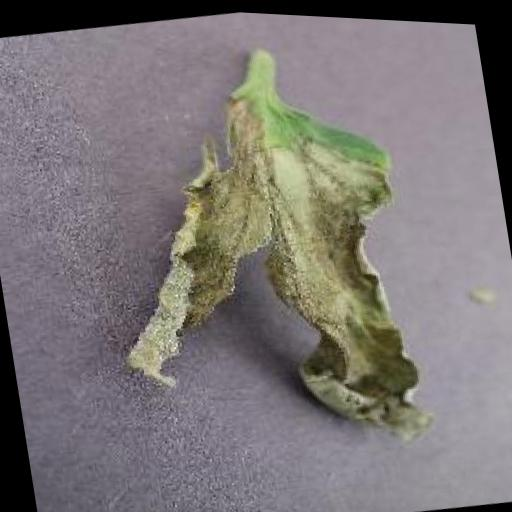Late Blight: (87, 74, 436, 482)
